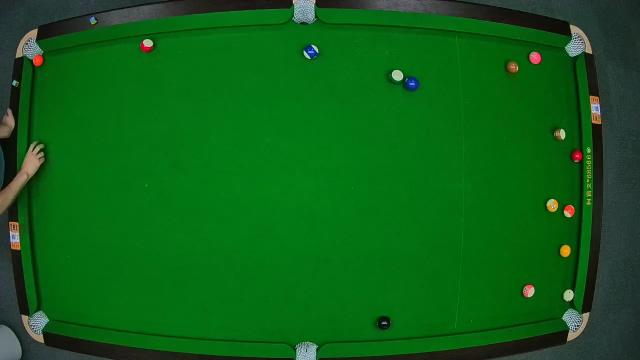bag1: (20, 40, 40, 61)
bag2: (292, 1, 316, 25)
bag3: (566, 35, 588, 55)
bag4: (28, 311, 48, 333)
bag5: (293, 340, 319, 360)
bag6: (562, 308, 582, 332)
ball0: (562, 288, 576, 302)
ball1: (559, 244, 573, 258)
ball10: (304, 43, 320, 60)
ball11: (140, 38, 154, 52)
ball12: (522, 284, 536, 298)
ball13: (562, 204, 574, 218)
ball14: (388, 69, 404, 85)
ball15: (552, 127, 568, 141)
ball2: (404, 76, 420, 90)
ball3: (568, 150, 584, 164)
ball4: (528, 52, 542, 66)
ball5: (32, 56, 44, 66)
ball7: (506, 61, 520, 75)
ball8: (376, 316, 392, 330)
ball9: (546, 198, 560, 214)
